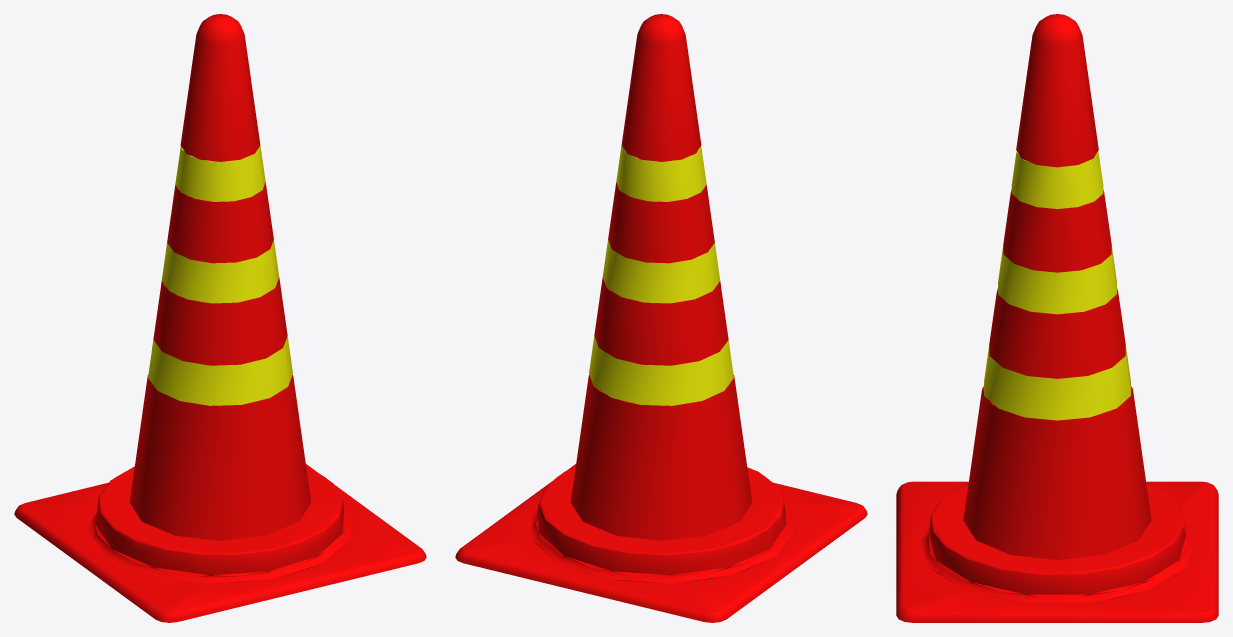
File: 3D_03カラーコーン素材（2色）.fbx
3 renders of one model, left to right at view 1: azimuth 30°, elevation 25°; view 2: azimuth 150°, elevation 25°; view 3: azimuth 270°, elevation 25°, orthographic. The views are drawn at different scales.
Parts seen in each view (by area): view 1: 3D ソリッド (×7); view 2: 3D ソリッド (×7); view 3: 3D ソリッド (×7).
Part boxes in pixels (x1,y1,x2,y2): 3D ソリッド (×7): [14, 14, 426, 622]; 3D ソリッド (×7): [455, 14, 867, 622]; 3D ソリッド (×7): [896, 14, 1218, 622].
Bounding box in the file's own units: 0.38 × 0.38 × 0.7.
